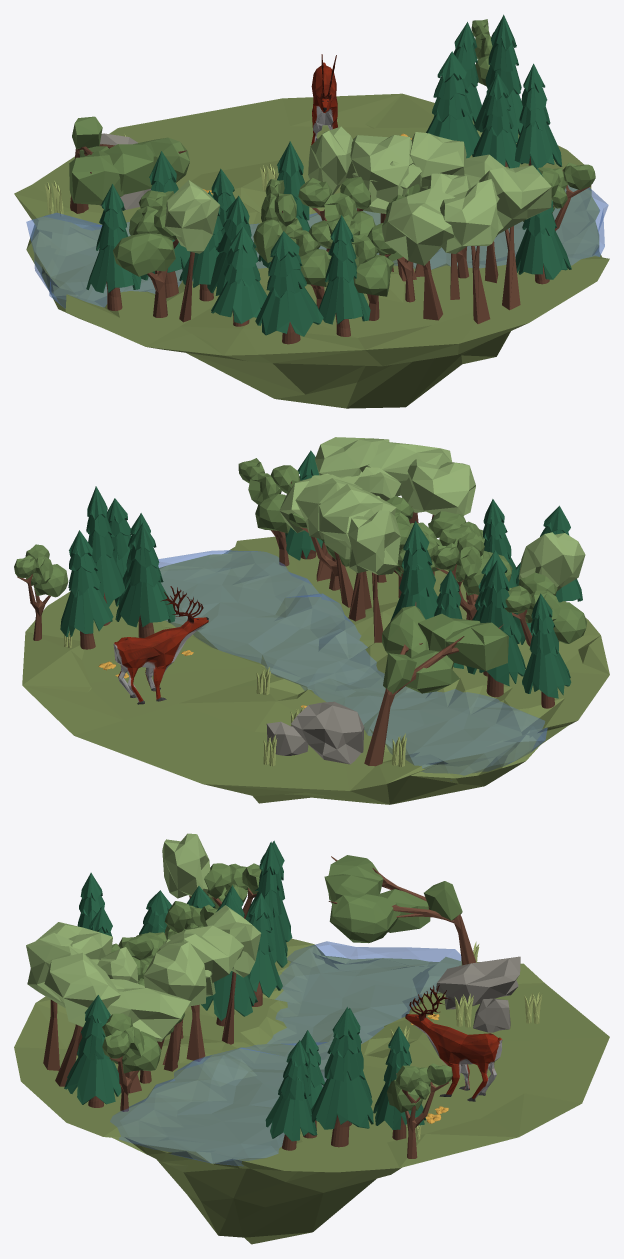
Rendered from forest-island.glb.
The picture shows the model from 3 angles, top to bottom: view 1: azimuth 30°, elevation 25°; view 2: azimuth 150°, elevation 25°; view 3: azimuth 270°, elevation 25°; orthographic projection. The views are drawn at different scales.
Parts seen in each view (by area): view 1: Landscape, Mball.039, Mball.006, Cube.017, Cube.002, pine-tree.004, Cube.020, Cube.021, pine-tree.017, Cube.023, Cube.014, pine-tree.012 (+26 smaller); view 2: Landscape, Mball.039, Mball.006, Cube, pine-tree, Cube.017, pine-tree.002, Cube.013, Cube.003, pine-tree.011, Cube.014, Cube.004 (+25 smaller); view 3: Landscape, Mball.039, Mball.006, pine-tree.001, Cube, Cube.021, pine-tree.009, Cube.016, pine-tree.005, Cube.019, Cube.003, Cube.014 (+20 smaller).
Boxes of the visible parts, x1,y1,x2,y2 form: Landscape: (14,93,609,408); Mball.039: (26,185,608,308); Mball.006: (69,116,189,205); Cube.017: (382,188,455,320); Cube.002: (113,190,178,317); pine-tree.004: (255,231,323,344); Cube.020: (440,179,503,323); Cube.021: (479,165,551,310); pine-tree.017: (318,215,370,336); Cube.023: (165,180,220,322); Cube.014: (346,135,413,271); pine-tree.012: (211,226,267,326); Landscape: (22,536,609,804); Mball.039: (158,550,547,780); Mball.006: (382,606,508,693); Cube: (113,586,208,704); pine-tree: (115,522,175,637); Cube.017: (400,459,475,575); pine-tree.002: (60,530,113,649); Cube.013: (348,510,400,642); Cube.003: (291,701,364,764); pine-tree.011: (522,593,571,708); Cube.014: (319,483,396,621); Cube.004: (238,458,300,566); Landscape: (14,938,609,1244); Mball.039: (110,941,461,1166); Mball.006: (324,855,462,943); pine-tree.001: (311,1007,373,1147); Cube: (405,985,502,1101); Cube.021: (44,952,120,1086); pine-tree.009: (64,995,121,1107); Cube.016: (143,941,206,1071); pine-tree.005: (265,1040,317,1150); Cube.019: (107,979,190,1093); Cube.003: (436,956,520,1009); Cube.014: (157,925,244,1061).
Bounding box in the file's own units: 9.87 × 5.7 × 10.02.
Materials: 10 (1 with a texture image).
